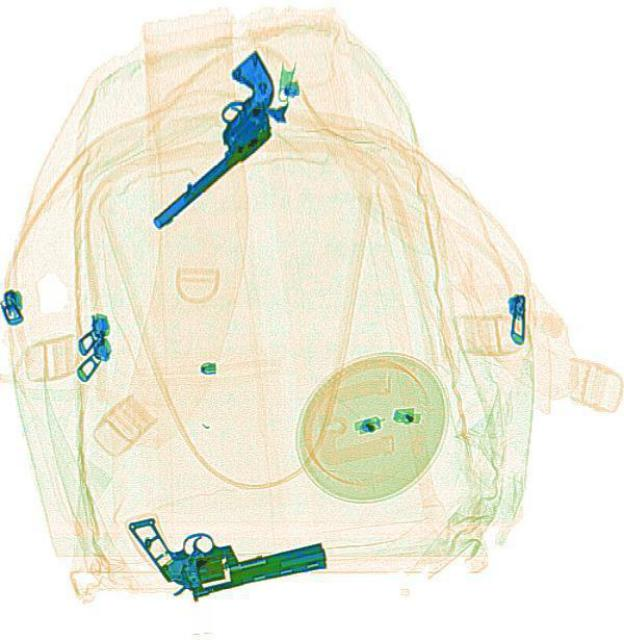Gun: (105, 48, 306, 230), (124, 479, 328, 611)
